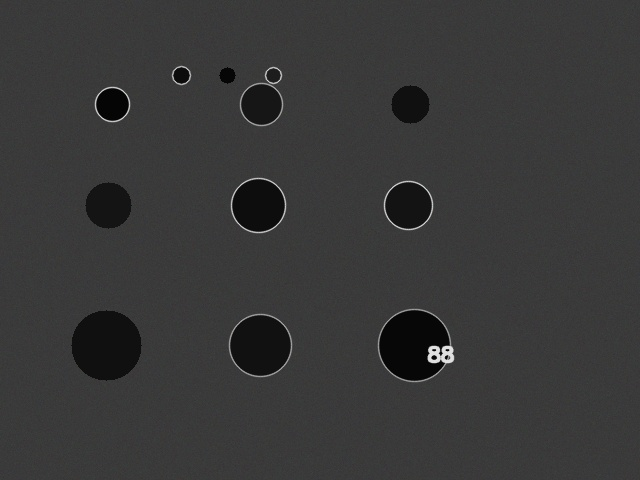hole: (378, 309, 450, 381), (71, 310, 141, 380), (229, 314, 291, 376), (231, 178, 285, 232), (384, 181, 432, 229), (85, 182, 131, 228), (240, 83, 282, 125), (391, 85, 429, 123), (95, 87, 129, 121), (172, 66, 190, 84), (219, 67, 235, 83), (265, 67, 281, 83)
